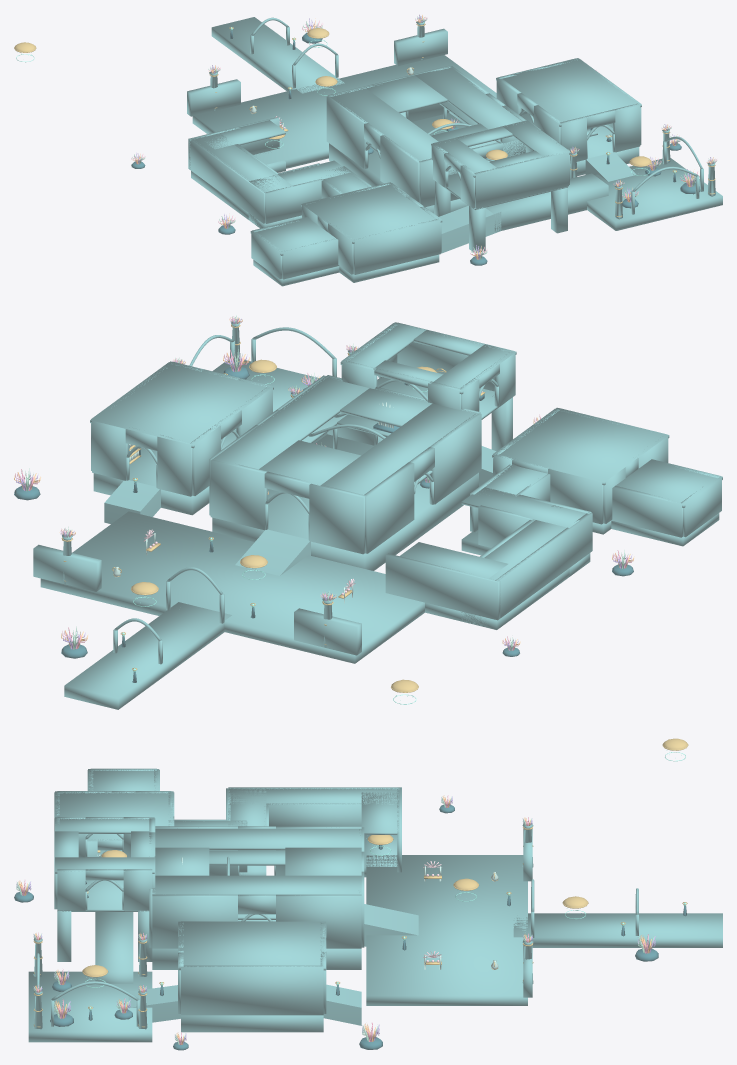
The model's file is atlantis_shadow.glb.
3 views of the same model, one above another, from view 1: azimuth 30°, elevation 25°; view 2: azimuth 150°, elevation 25°; view 3: azimuth 270°, elevation 25° (orthographic). The views are drawn at different scales.
Parts seen in each view (by area): view 1: atlantis_shadow_surface; view 2: atlantis_shadow_surface; view 3: atlantis_shadow_surface.
Part boxes in pixels (left/top/right/bottom): atlantis_shadow_surface: left=14, top=14, right=722, bottom=286; atlantis_shadow_surface: left=14, top=315, right=722, bottom=709; atlantis_shadow_surface: left=14, top=738, right=722, bottom=1050.
Size of the model in its own units: 127 by 24 by 149.
